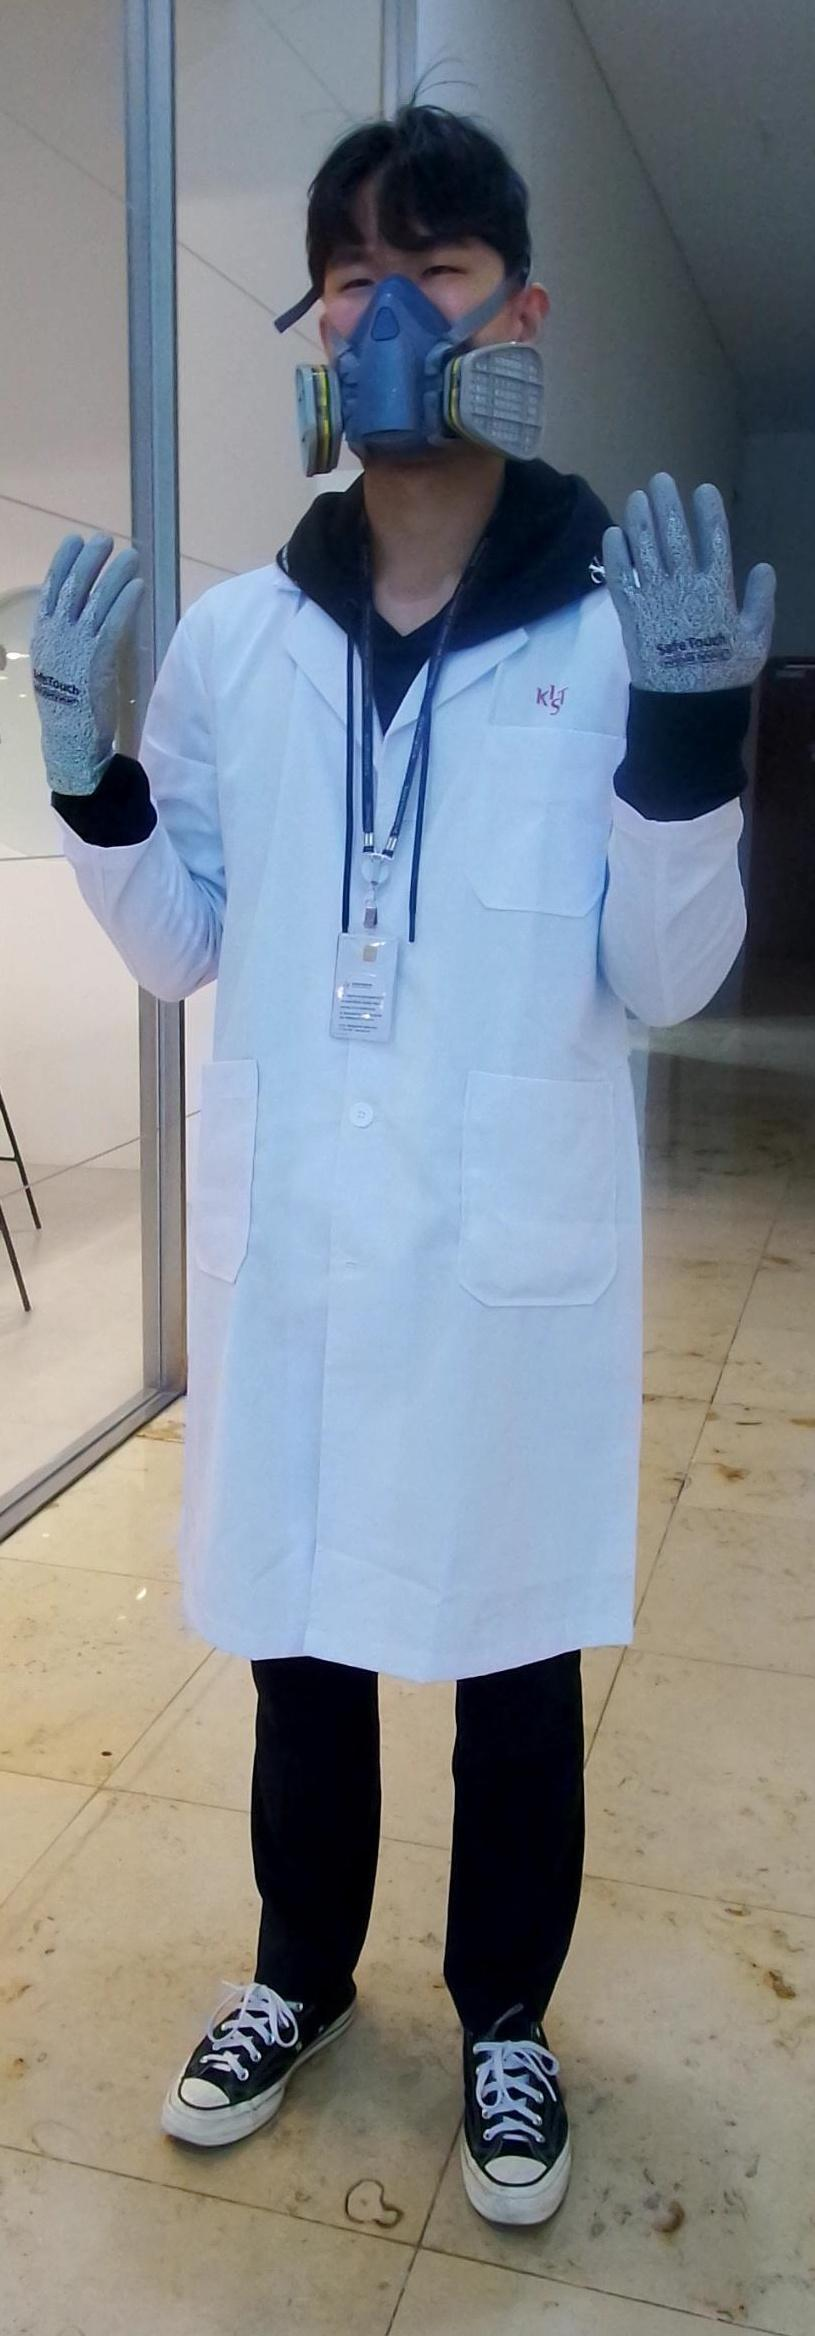lab_coat: (176, 507, 611, 1675)
